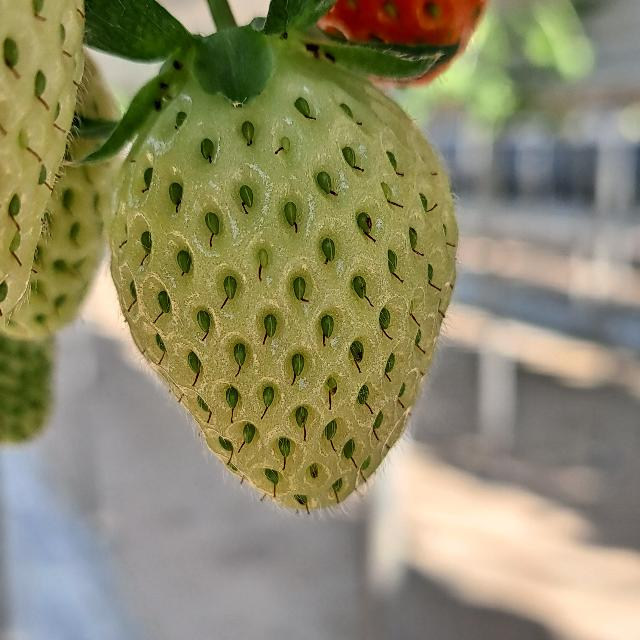Health_25: (108, 58, 458, 510)
